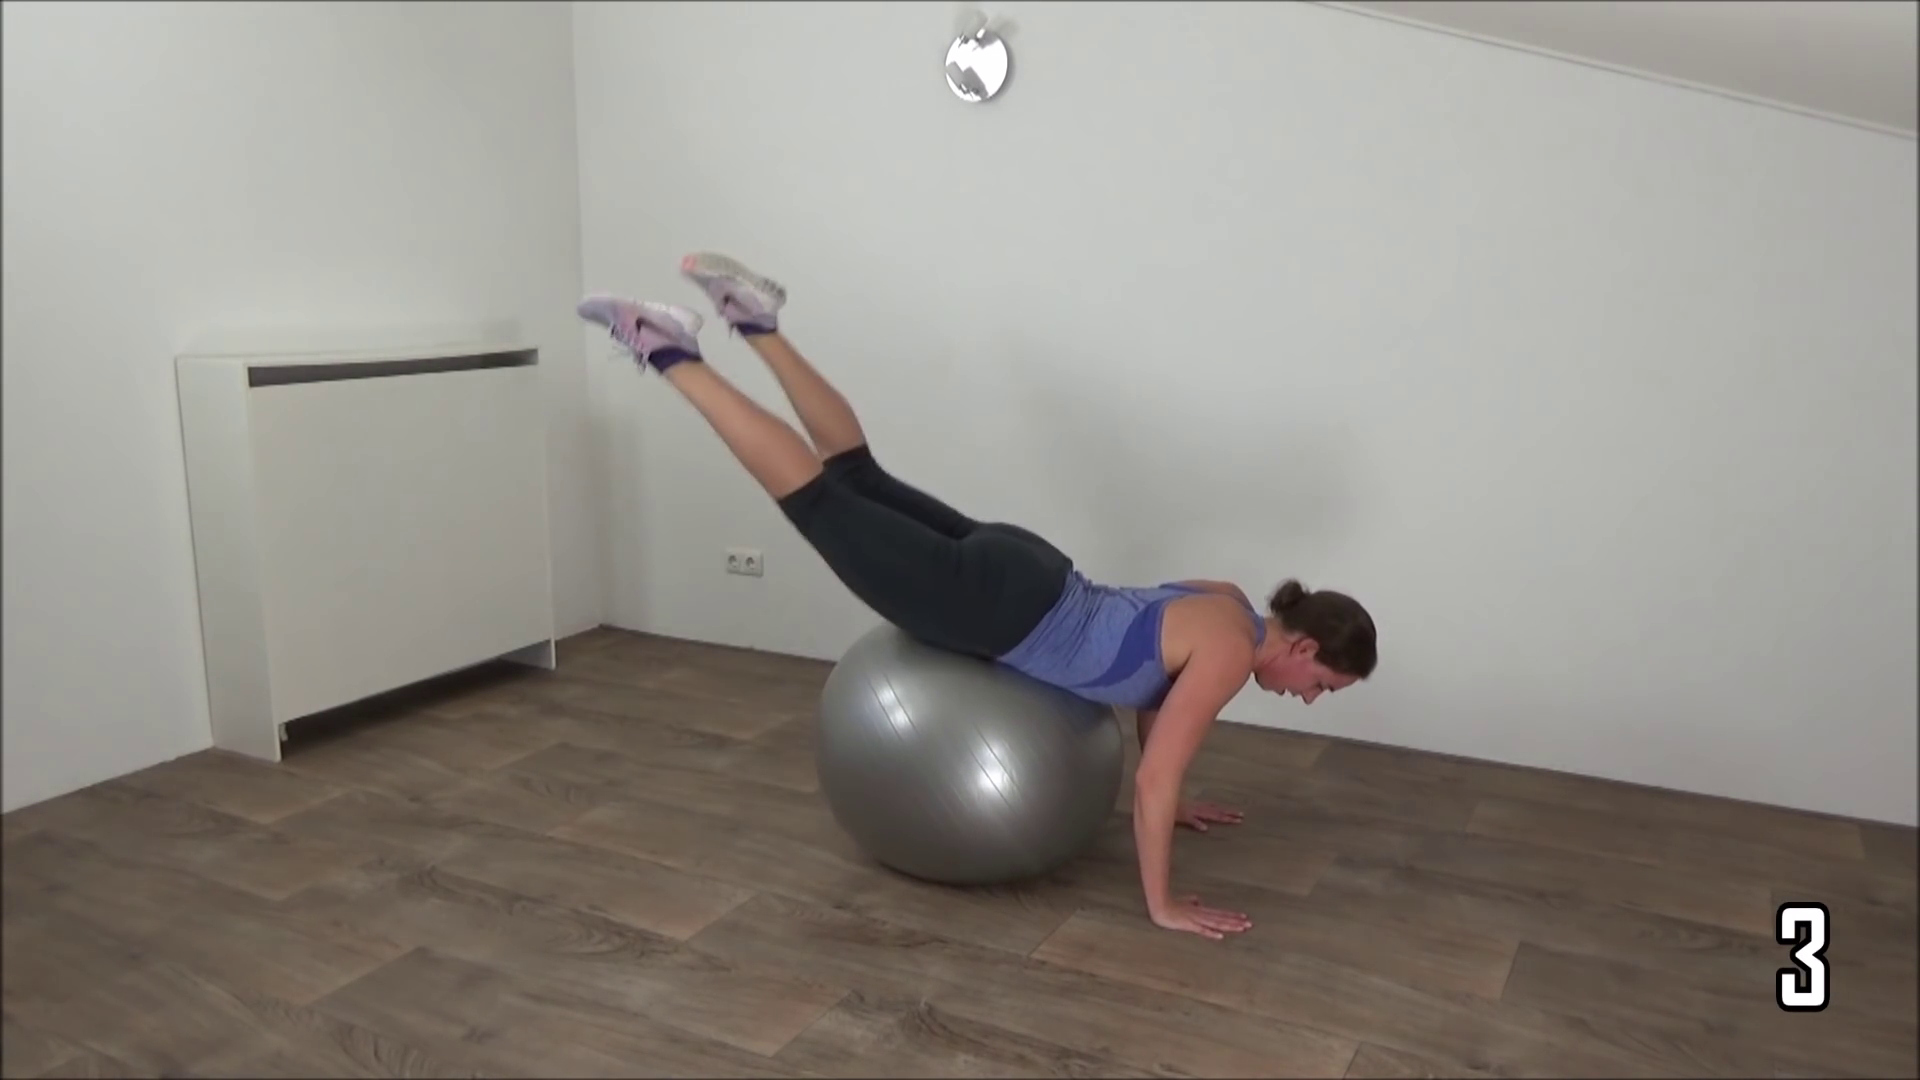yogaball: (795, 616, 1146, 899)
